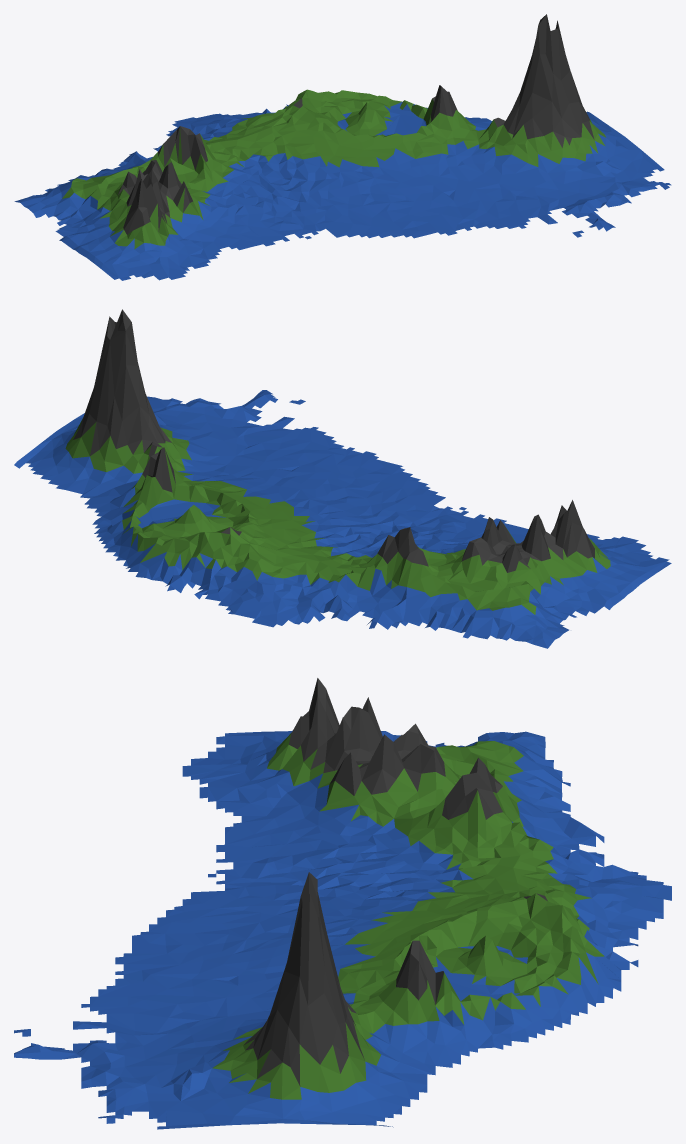
The model's file is Mountain7_hig.fbx.
The picture shows the model from 3 angles, top to bottom: view 1: azimuth 30°, elevation 25°; view 2: azimuth 150°, elevation 25°; view 3: azimuth 270°, elevation 25°; orthographic projection. The views are drawn at different scales.
Parts seen in each view (by area): view 1: Plane.021; view 2: Plane.021; view 3: Plane.021.
Part boxes in pixels (bbox=[...]): Plane.021: bbox=[14, 14, 671, 280]; Plane.021: bbox=[14, 309, 671, 648]; Plane.021: bbox=[14, 678, 671, 1129].
Bounding box in the file's own units: 2001 × 498 × 1418.
